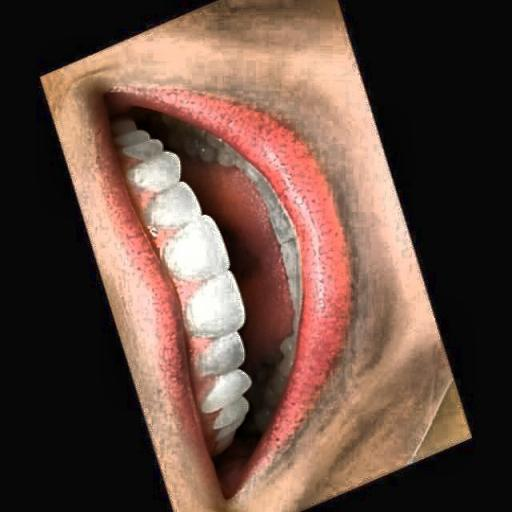Healthy: (70, 59, 400, 463)
